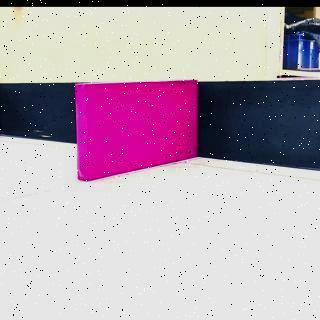xparking: (76, 84, 196, 170)
